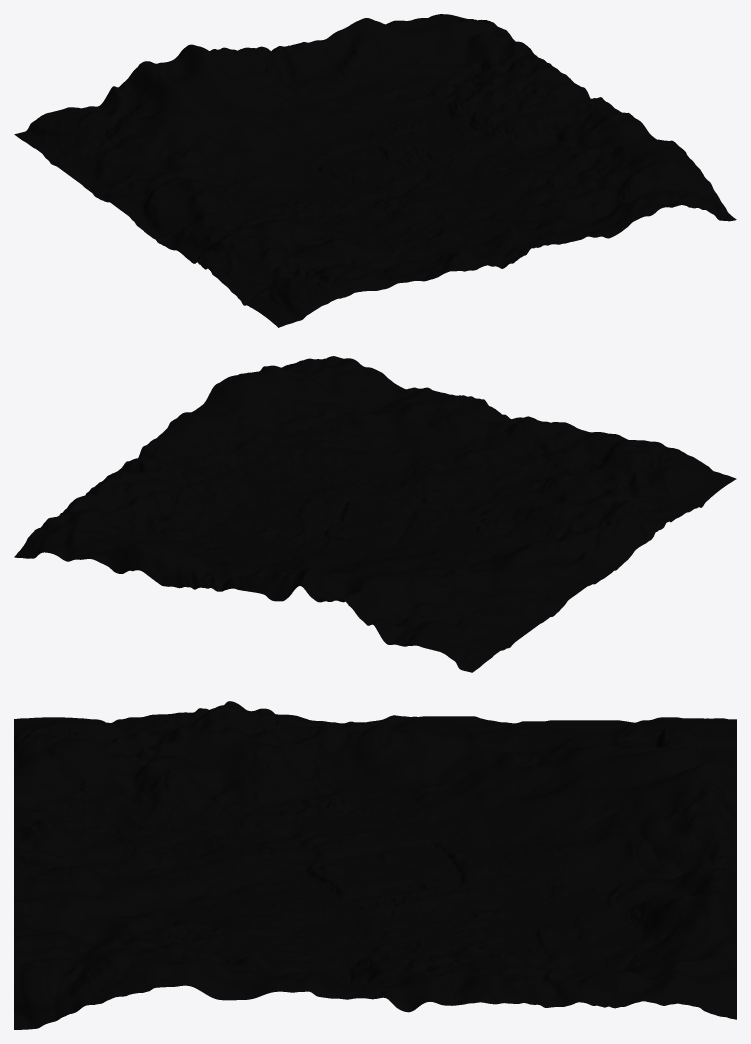
File: Terrain (3).fbx
3 renders of one model, top to bottom at view 1: azimuth 30°, elevation 25°; view 2: azimuth 150°, elevation 25°; view 3: azimuth 270°, elevation 25°, orthographic. The views are drawn at different scales.
Visible parts, largest first — view 1: Terrain (1); view 2: Terrain (1); view 3: Terrain (1).
Part boxes in pixels (x1=…): Terrain (1): x1=14, y1=14, x2=736, y2=327; Terrain (1): x1=14, y1=356, x2=736, y2=672; Terrain (1): x1=14, y1=701, x2=736, y2=1029.
Size of the model in its own units: 3000 by 353 by 3000.
1 material, 1 textured.
